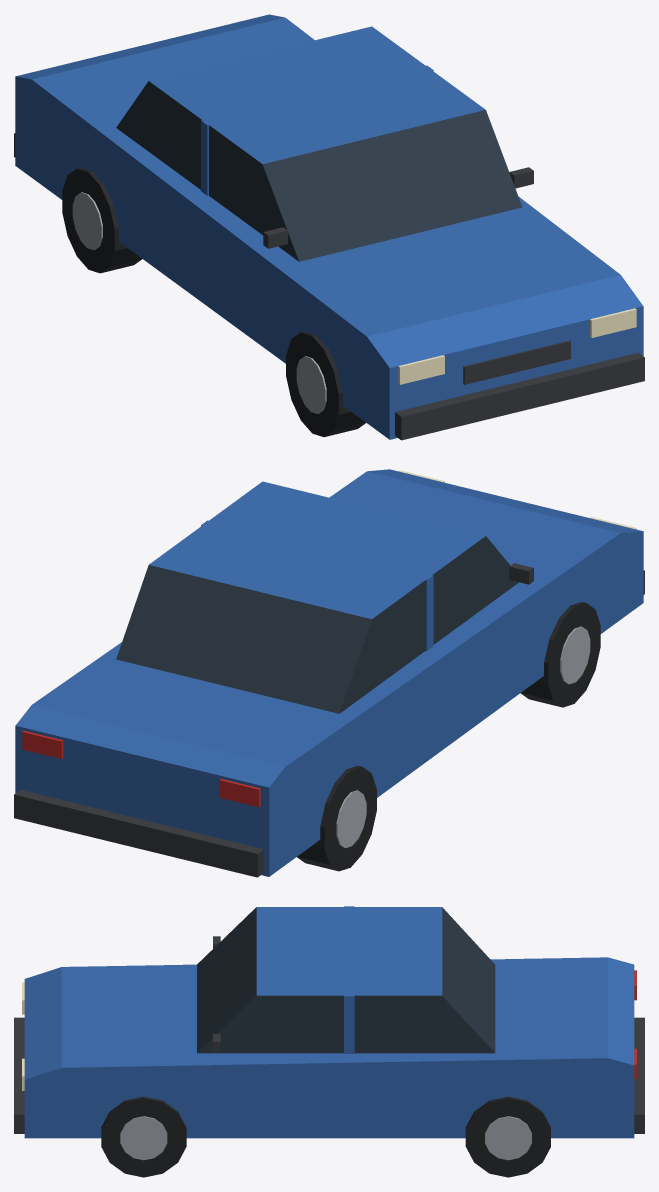
The model's file is sedan.glb.
3 renders of one model, top to bottom at view 1: azimuth 30°, elevation 25°; view 2: azimuth 150°, elevation 25°; view 3: azimuth 270°, elevation 25°, orthographic. The views are drawn at different scales.
Parts seen in each view (by area): view 1: Body, Wheel_RR, Wheel_FR; view 2: Body, Wheel_FR, Wheel_RR; view 3: Body, Wheel_FL, Wheel_RL.
Boxes of the visible parts, left/top/right/bottom form: Body: left=14, top=14, right=644, bottom=440; Wheel_RR: left=62, top=167, right=141, bottom=273; Wheel_FR: left=286, top=331, right=365, bottom=437; Body: left=14, top=469, right=644, bottom=877; Wheel_FR: left=520, top=602, right=600, bottom=707; Wheel_RR: left=297, top=765, right=376, bottom=871; Body: left=14, top=906, right=644, bottom=1138; Wheel_FL: left=101, top=1096, right=186, bottom=1177; Wheel_RL: left=465, top=1096, right=550, bottom=1177.
Bounding box in the file's own units: 1.88 × 1.45 × 4.76.
